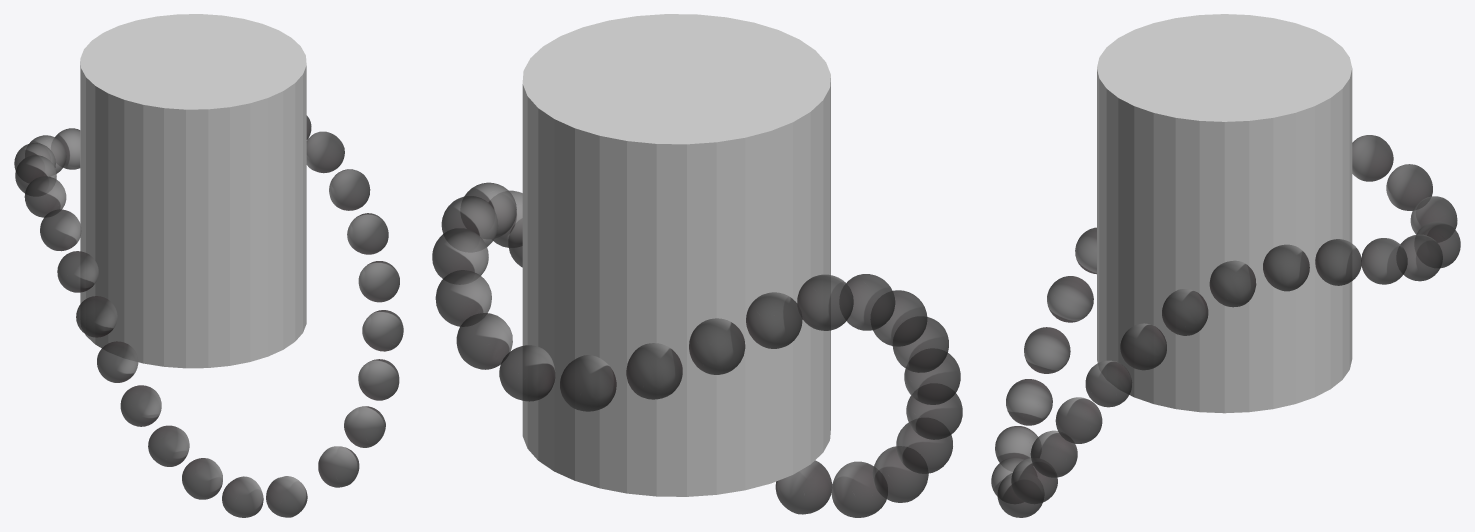
The model's file is necklace.glb.
The picture shows the model from 3 angles, left to right: view 1: azimuth 30°, elevation 25°; view 2: azimuth 150°, elevation 25°; view 3: azimuth 270°, elevation 25°; orthographic projection. The views are drawn at different scales.
Visible parts, largest first — view 1: neck_helper, lace; view 2: neck_helper, lace; view 3: neck_helper, lace.
Part boxes in pixels (x1,y1,x2,y2): neck_helper: (80,14,306,368); lace: (14,115,403,517); neck_helper: (522,14,830,496); lace: (432,182,962,517); neck_helper: (1097,14,1352,413); lace: (991,135,1460,517).
Bounding box in the file's own units: 2.32 × 2.72 × 2.67.
1 material, 1 textured.
